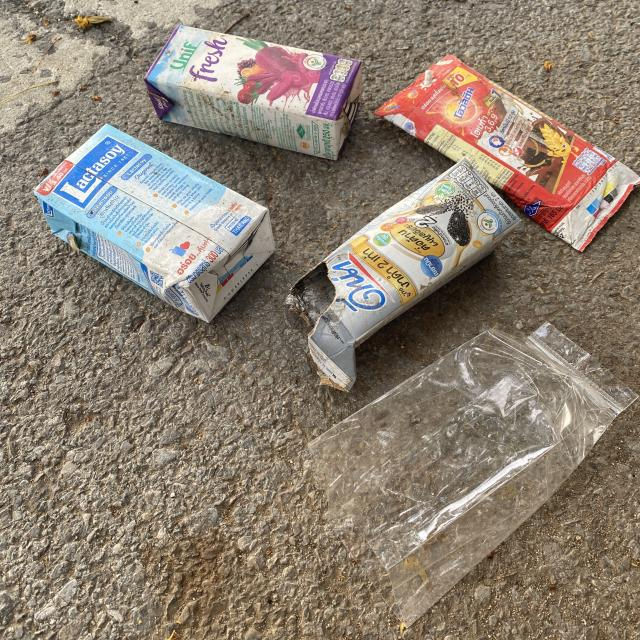Single-layer Plastic: (309, 324, 638, 625)
